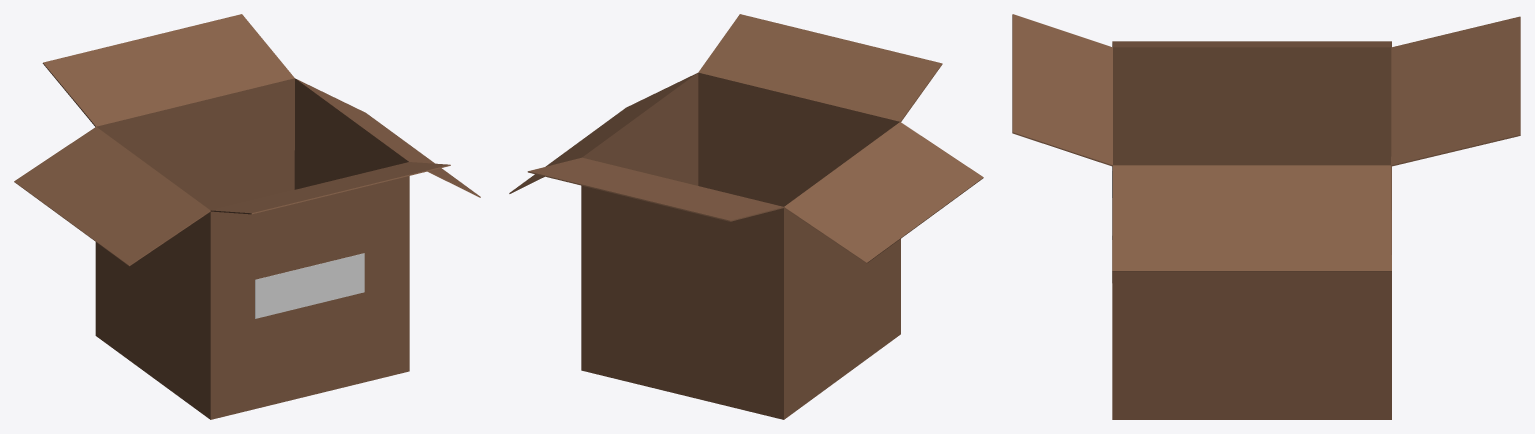
The model's file is CaixaA.fbx.
3 renders of one model, left to right at view 1: azimuth 30°, elevation 25°; view 2: azimuth 150°, elevation 25°; view 3: azimuth 270°, elevation 25°, orthographic. The views are drawn at different scales.
Parts seen in each view (by area): view 1: CaixaA, CaixaAPapel; view 2: CaixaA; view 3: CaixaA.
Part boxes in pixels (bbox=[...]): CaixaA: bbox=[14, 14, 480, 419]; CaixaAPapel: bbox=[255, 253, 364, 318]; CaixaA: bbox=[509, 14, 983, 419]; CaixaA: bbox=[1012, 14, 1520, 419].
Size of the model in its own units: 48.27 by 31.01 by 49.65.
